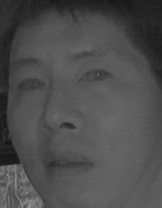eye: (75, 65, 114, 88), (14, 76, 46, 95)
mouth: (38, 149, 97, 180)
